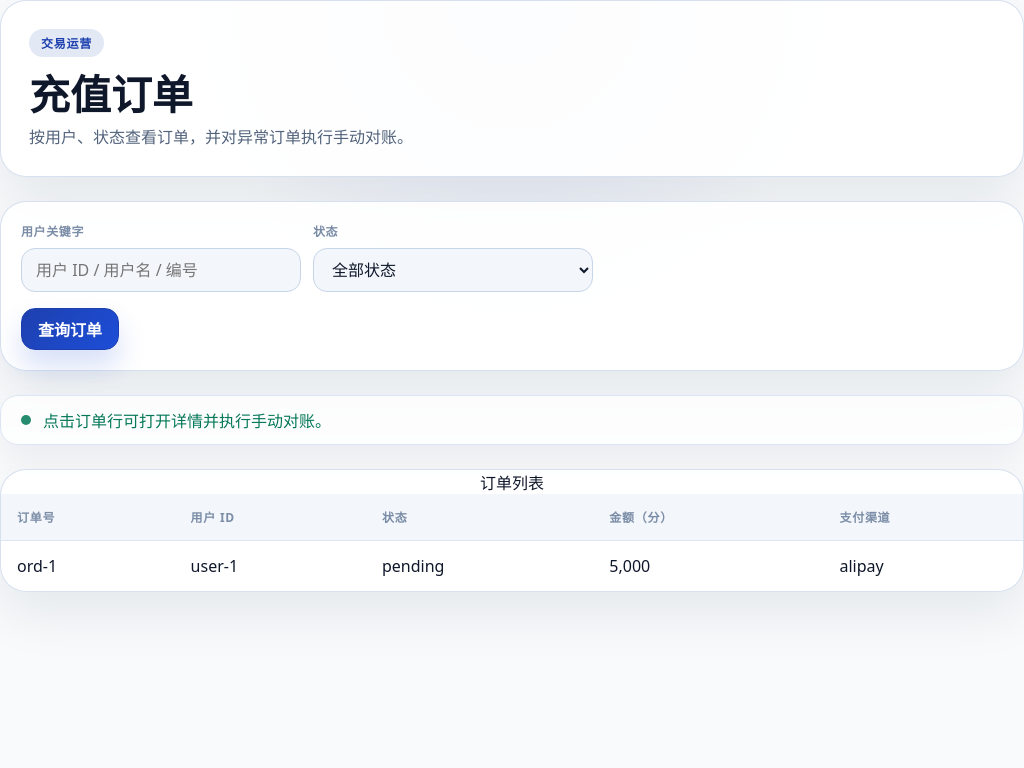
Test case: OrdersPage › filters by status and opens reconcile confirmation for selected orders
Expected: the text "ord-1" is shown, [1,540,175,591]
Step 1. Select "pending" in the dropdown → (453, 270), box [313,248,593,292]
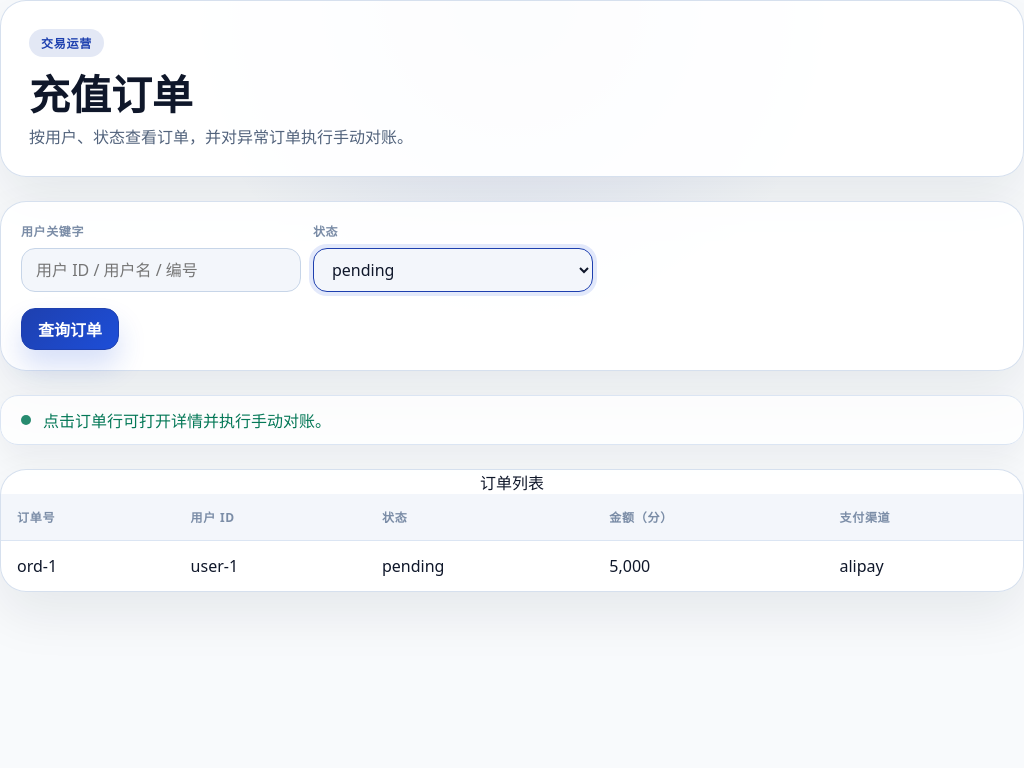
Step 2. Click the button "查询订单" → (70, 329), box [21,308,119,350]
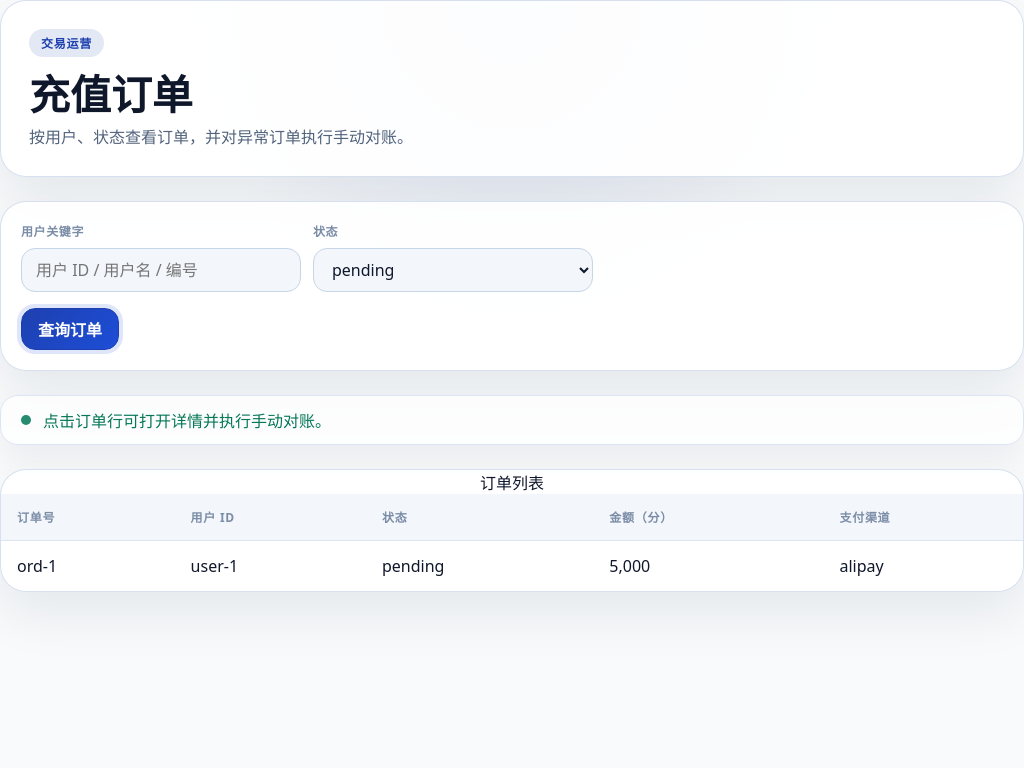
Step 3. Click the text "ord-1" → (37, 566), box [1,540,175,591]
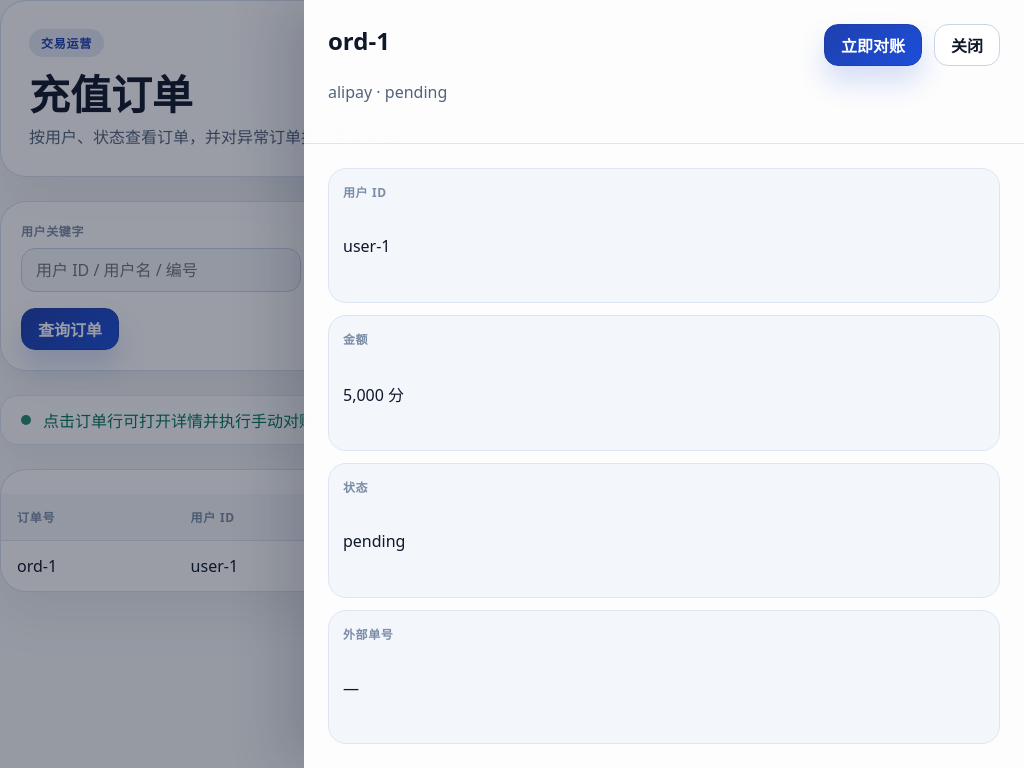
Result: the dialog "ord-1" is shown
Step 4. Click the button "立即对账" → (873, 45), box [824,24,922,66]
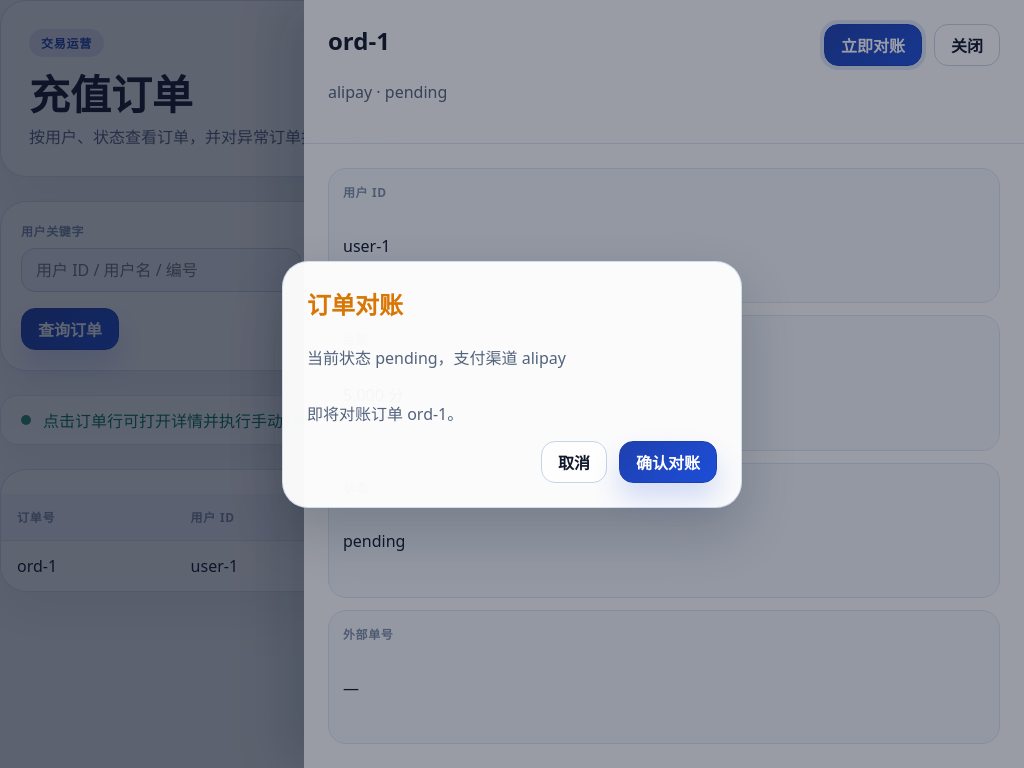
Result: the dialog "订单对账" is shown at [282,260,742,508]
Result: the text "即将对账订单 ord-1。" is shown at [307,402,463,424]
